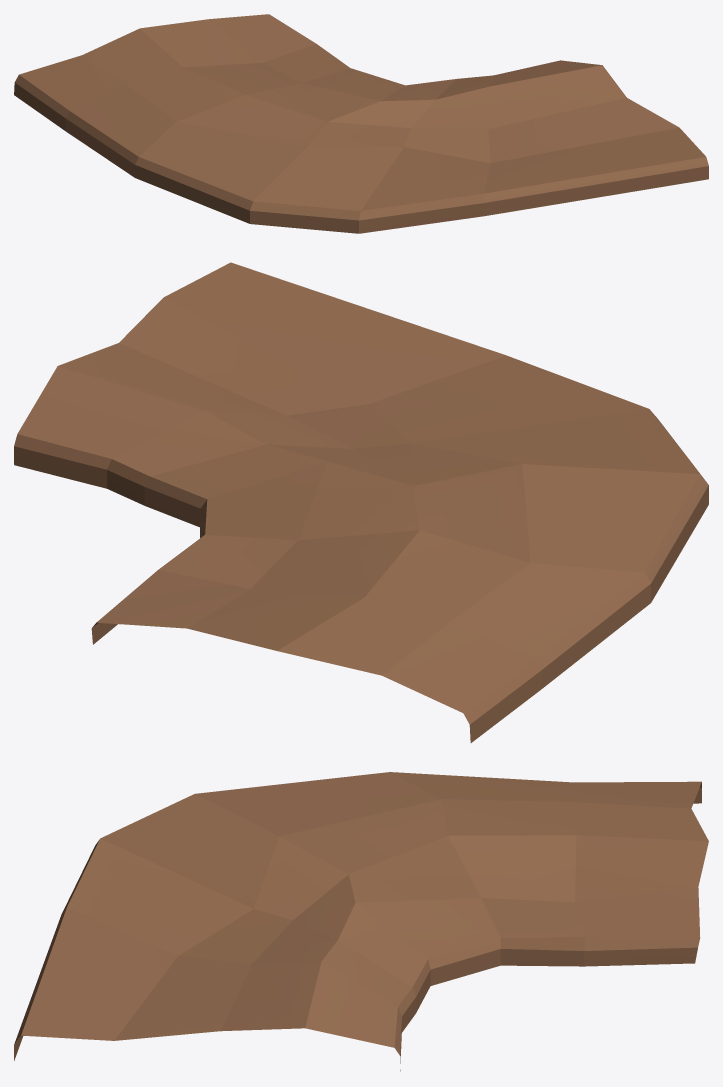
The model's file is RoadTile_6.fbx.
3 views of the same model, one above another, from view 1: azimuth 30°, elevation 25°; view 2: azimuth 150°, elevation 25°; view 3: azimuth 270°, elevation 25° (orthographic). The views are drawn at different scales.
Parts seen in each view (by area): view 1: RoadTile_6; view 2: RoadTile_6; view 3: RoadTile_6.
Boxes of the visible parts, bbox=[...] form: RoadTile_6: bbox=[14, 14, 708, 233]; RoadTile_6: bbox=[14, 262, 708, 742]; RoadTile_6: bbox=[14, 772, 708, 1071].
Bounding box in the file's own units: 668 × 60.21 × 715.
